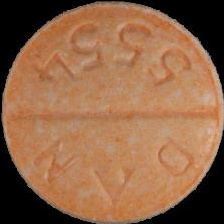68151-2013: (0, 0, 224, 224)
